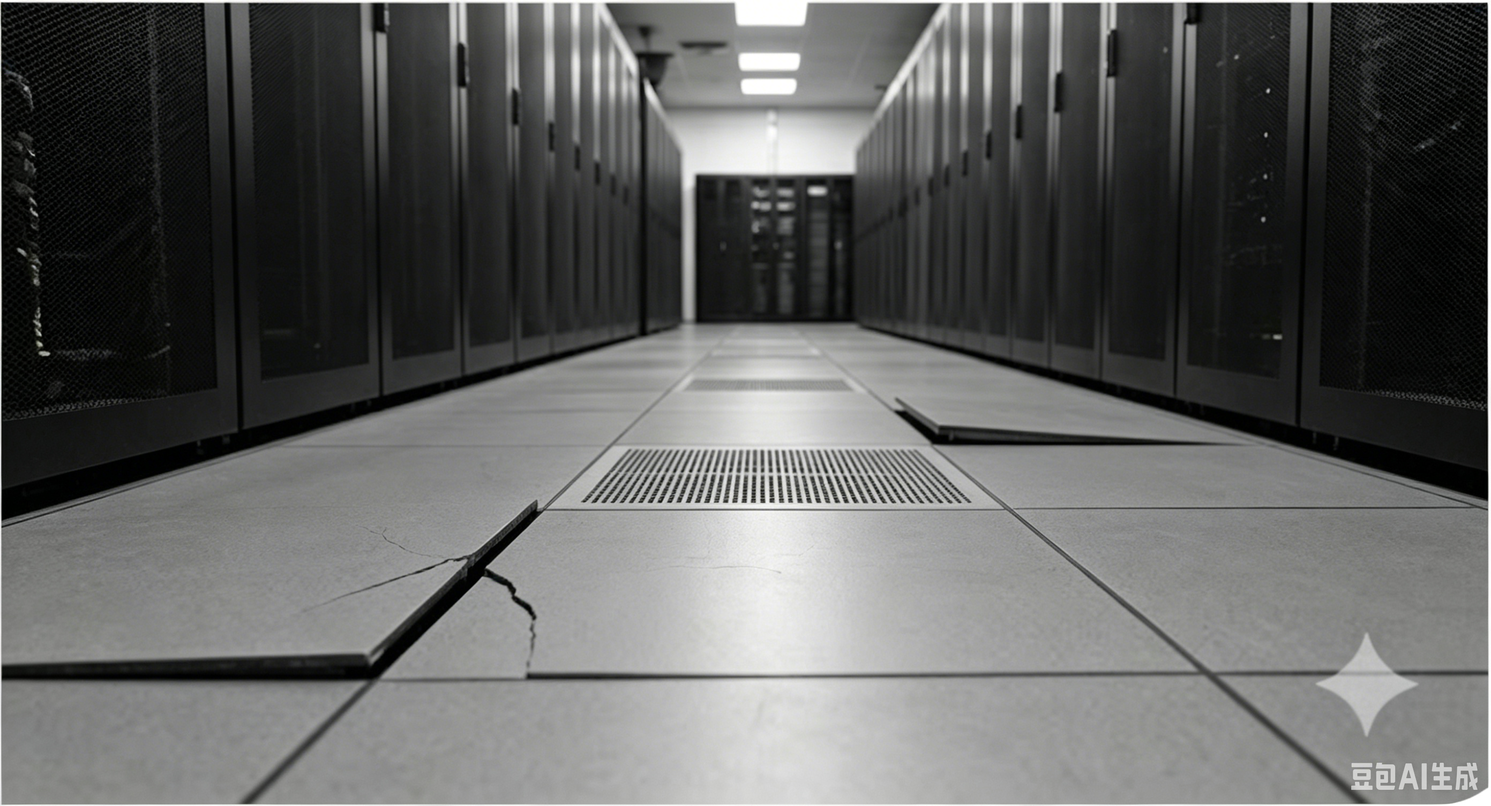floor_defect: (876, 380, 1254, 458), (3, 628, 386, 688), (450, 578, 564, 688), (367, 581, 465, 685), (440, 495, 563, 572), (332, 555, 440, 602), (360, 521, 437, 561)
